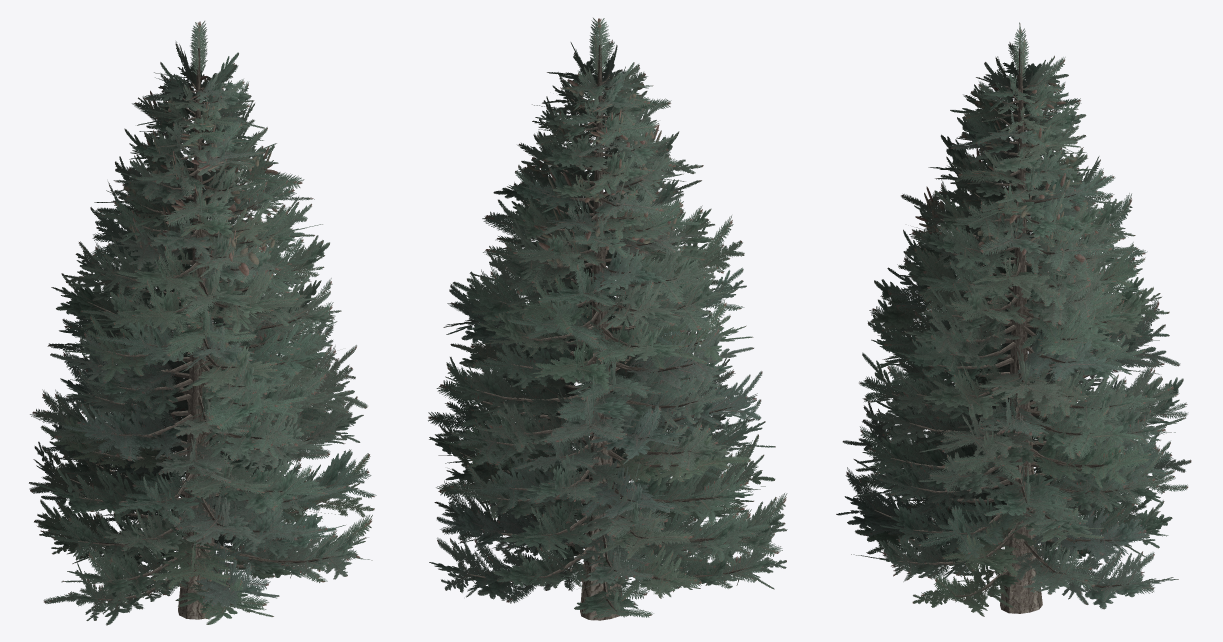
The model's file is pinsapo.glb.
3 renders of one model, left to right at view 1: azimuth 30°, elevation 25°; view 2: azimuth 150°, elevation 25°; view 3: azimuth 270°, elevation 25°, orthographic.
Parts seen in each view (by area): view 1: copa, copa_medio, tronco, tronco_medio; view 2: copa, copa_medio, tronco, tronco_medio; view 3: copa, copa_medio, tronco, tronco_medio.
Part boxes in pixels (left/top/right/bottom): copa: left=34, top=28, right=376, bottom=622; copa_medio: left=29, top=21, right=372, bottom=625; tronco: left=60, top=48, right=335, bottom=619; tronco_medio: left=90, top=132, right=298, bottom=619; copa: left=429, top=24, right=786, bottom=617; copa_medio: left=428, top=18, right=787, bottom=618; tronco: left=460, top=45, right=753, bottom=620; tronco_medio: left=491, top=44, right=730, bottom=620; copa: left=836, top=28, right=1188, bottom=614; copa_medio: left=842, top=22, right=1191, bottom=616; tronco: left=874, top=48, right=1152, bottom=613; tronco_medio: left=924, top=62, right=1101, bottom=613.
Bounding box in the file's own units: 11.39 × 19.19 × 11.28.
2 materials, 2 textured.
